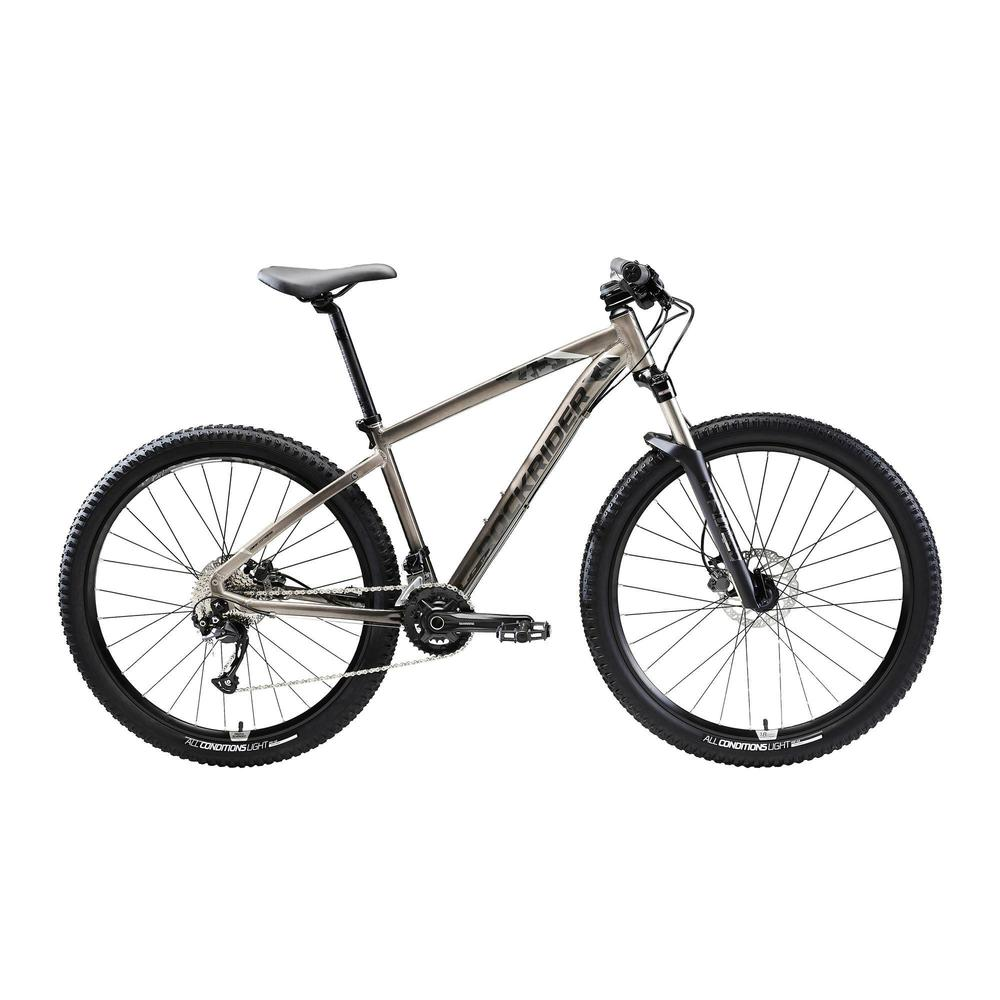MountainBike: (45, 250, 942, 764)
